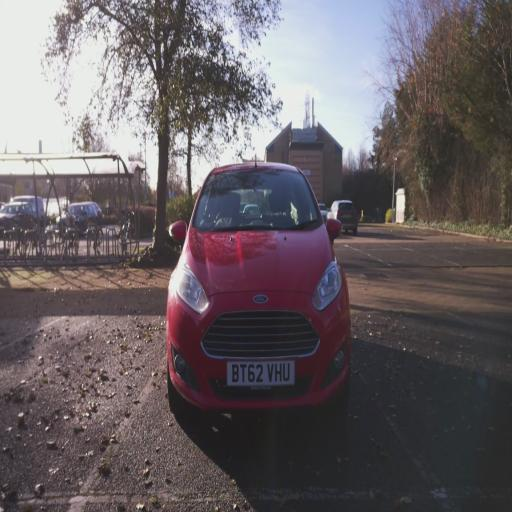numberplates: (225, 359, 296, 389)
